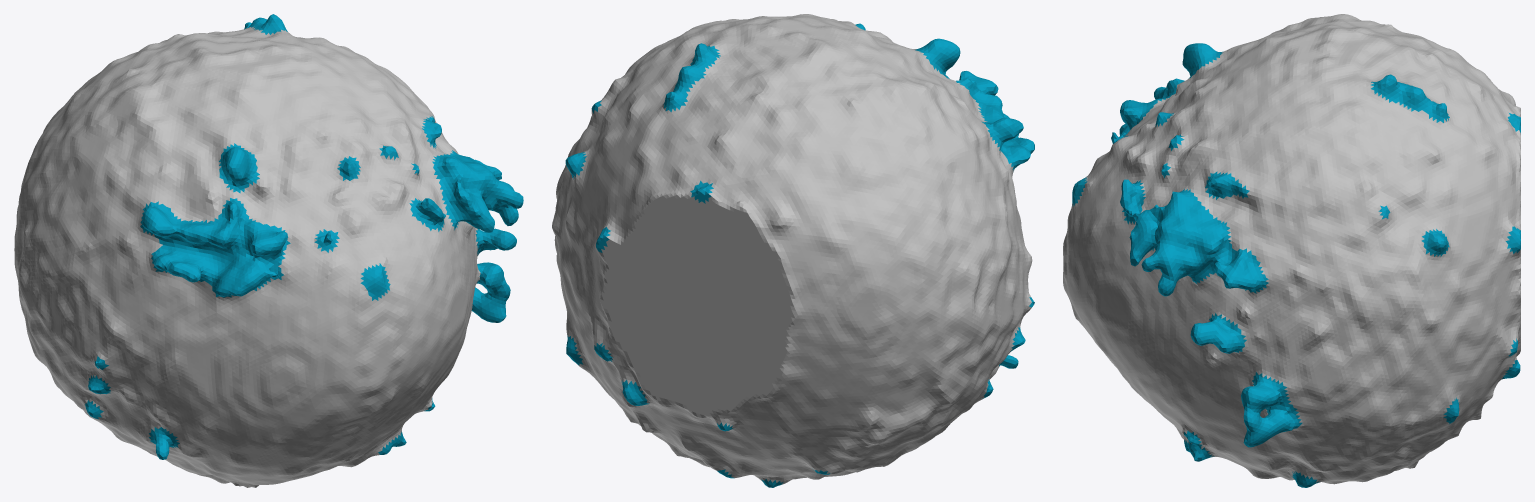
The picture shows the model from 3 angles, left to right: view 1: azimuth 30°, elevation 25°; view 2: azimuth 150°, elevation 25°; view 3: azimuth 270°, elevation 25°; orthographic projection. The views are drawn at different scales.
Bounding box in the file's own units: 95.87 × 89.08 × 89.24.
